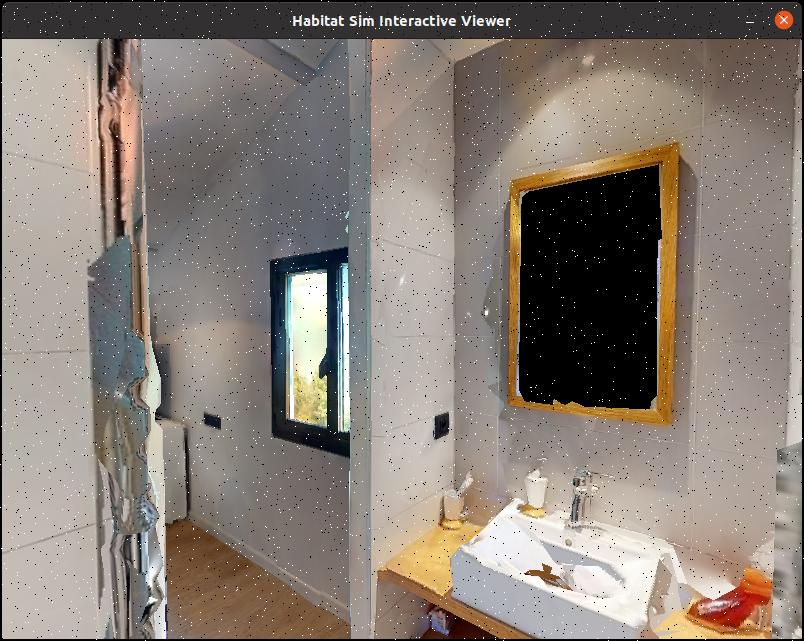door-frame: (93, 40, 399, 641)
sink: (443, 425, 686, 641)
